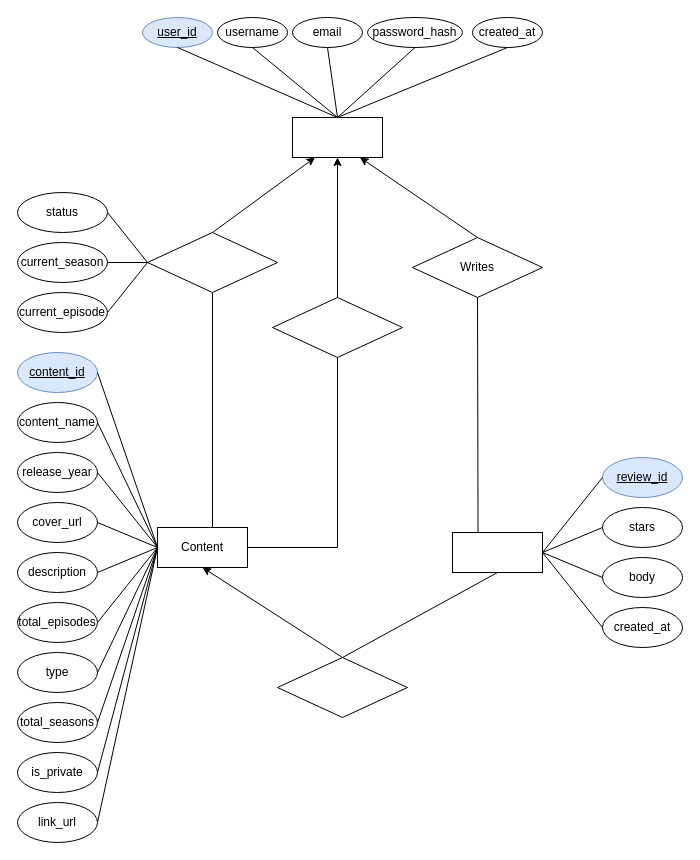
The diagram is 700 pixels wide and 860 high, and some of its shapes have lost their labels. The centre of each missing label's shape, as x and y in pixels:
About: the point at 342,687
Creates: the point at 337,327
Reviews: the point at 497,552
Tracks: the point at 212,262
Users: the point at 337,137
